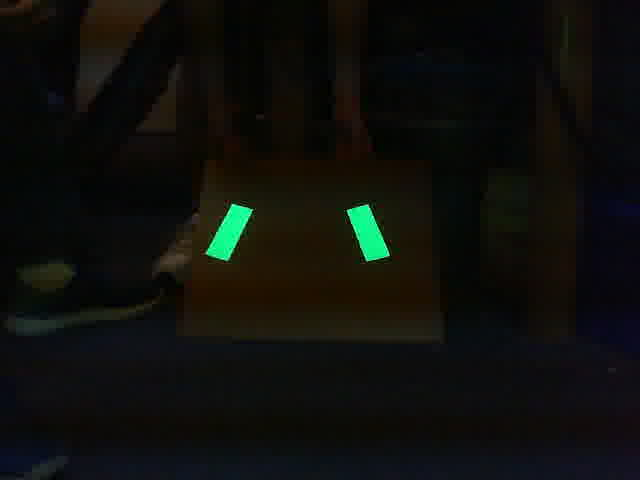target: (204, 202, 393, 270)
